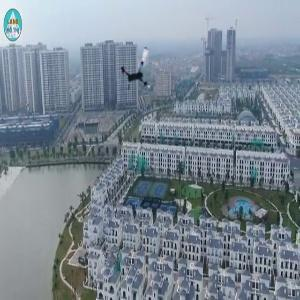drone: (111, 46, 160, 95)
